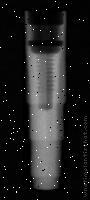DENTSPLY: (21, 10, 68, 191)
